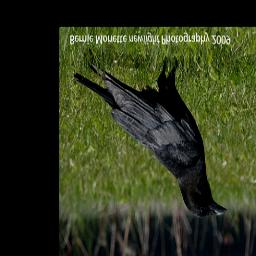Crow: (73, 53, 229, 219)
